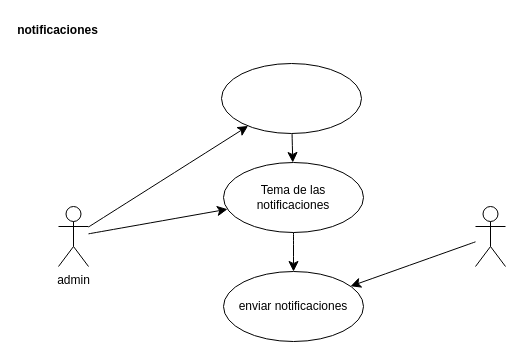
Image size: 529x359. Some labels were removed from this diagram. Here are the shapes that lost their labels. From the top down, the box of each, then its label:
(220, 62, 362, 134): elegir a quien va las notificaciones
(474, 206, 506, 266): Sistema
